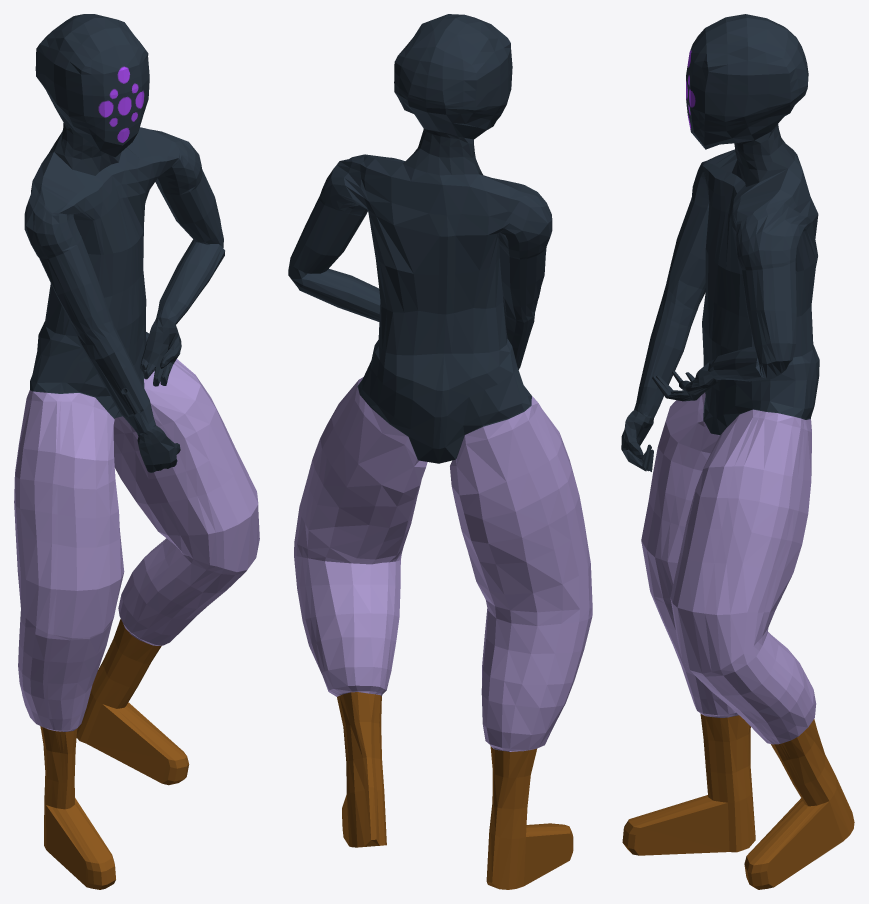
The model's file is Oracle_WL_000005.obj.
3 views of the same model, side by side, from view 1: azimuth 30°, elevation 25°; view 2: azimuth 150°, elevation 25°; view 3: azimuth 270°, elevation 25° (orthographic). The views are drawn at different scales.
Visible parts, largest first — view 1: Cube; view 2: Cube; view 3: Cube.
Part boxes in pixels (<box>): Cube: <box>14,14,259,889</box>; Cube: <box>288,14,592,889</box>; Cube: <box>621,14,854,889</box>.
Bounding box in the file's own units: 1.27 × 3.91 × 0.965.
